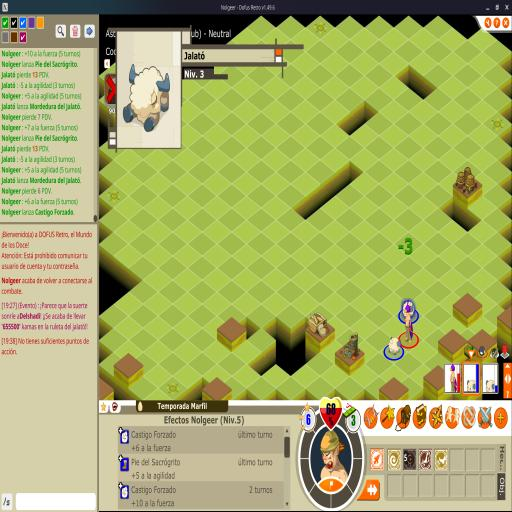Enemigos: (388, 336, 402, 356), (402, 300, 415, 318)
Personaje: (403, 308, 414, 342)
